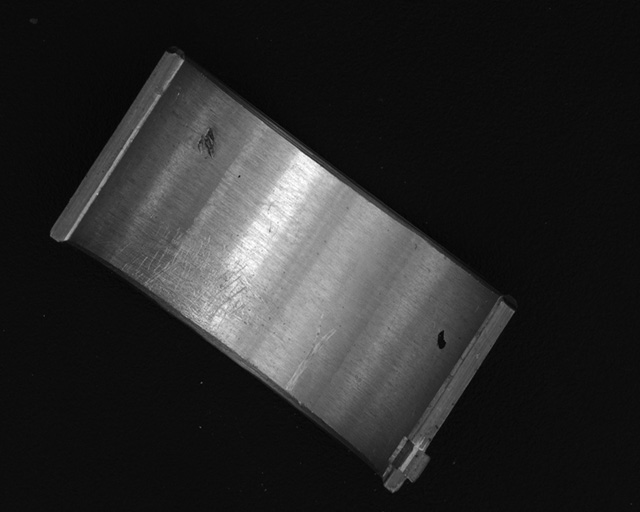blot: (435, 329, 447, 351)
bruise: (197, 127, 218, 161)
nick: (283, 310, 337, 392)
scratch: (111, 226, 268, 340)
